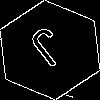J: (25, 25, 77, 77)
